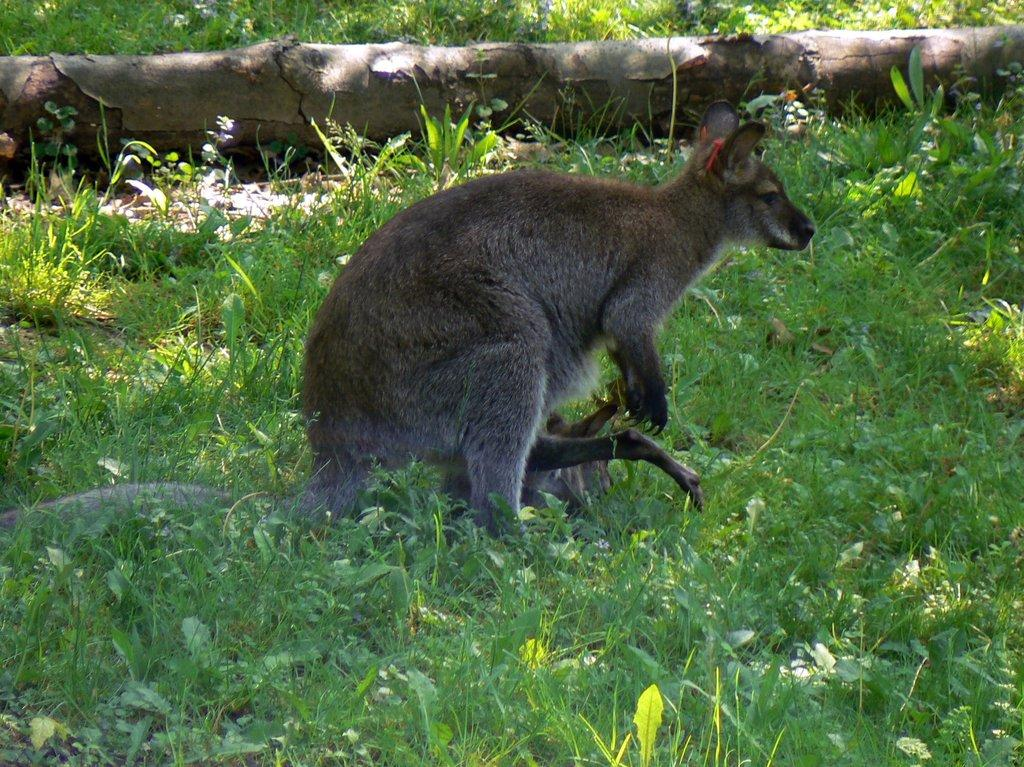kangaroo: (0, 98, 817, 545), (434, 378, 706, 522)
